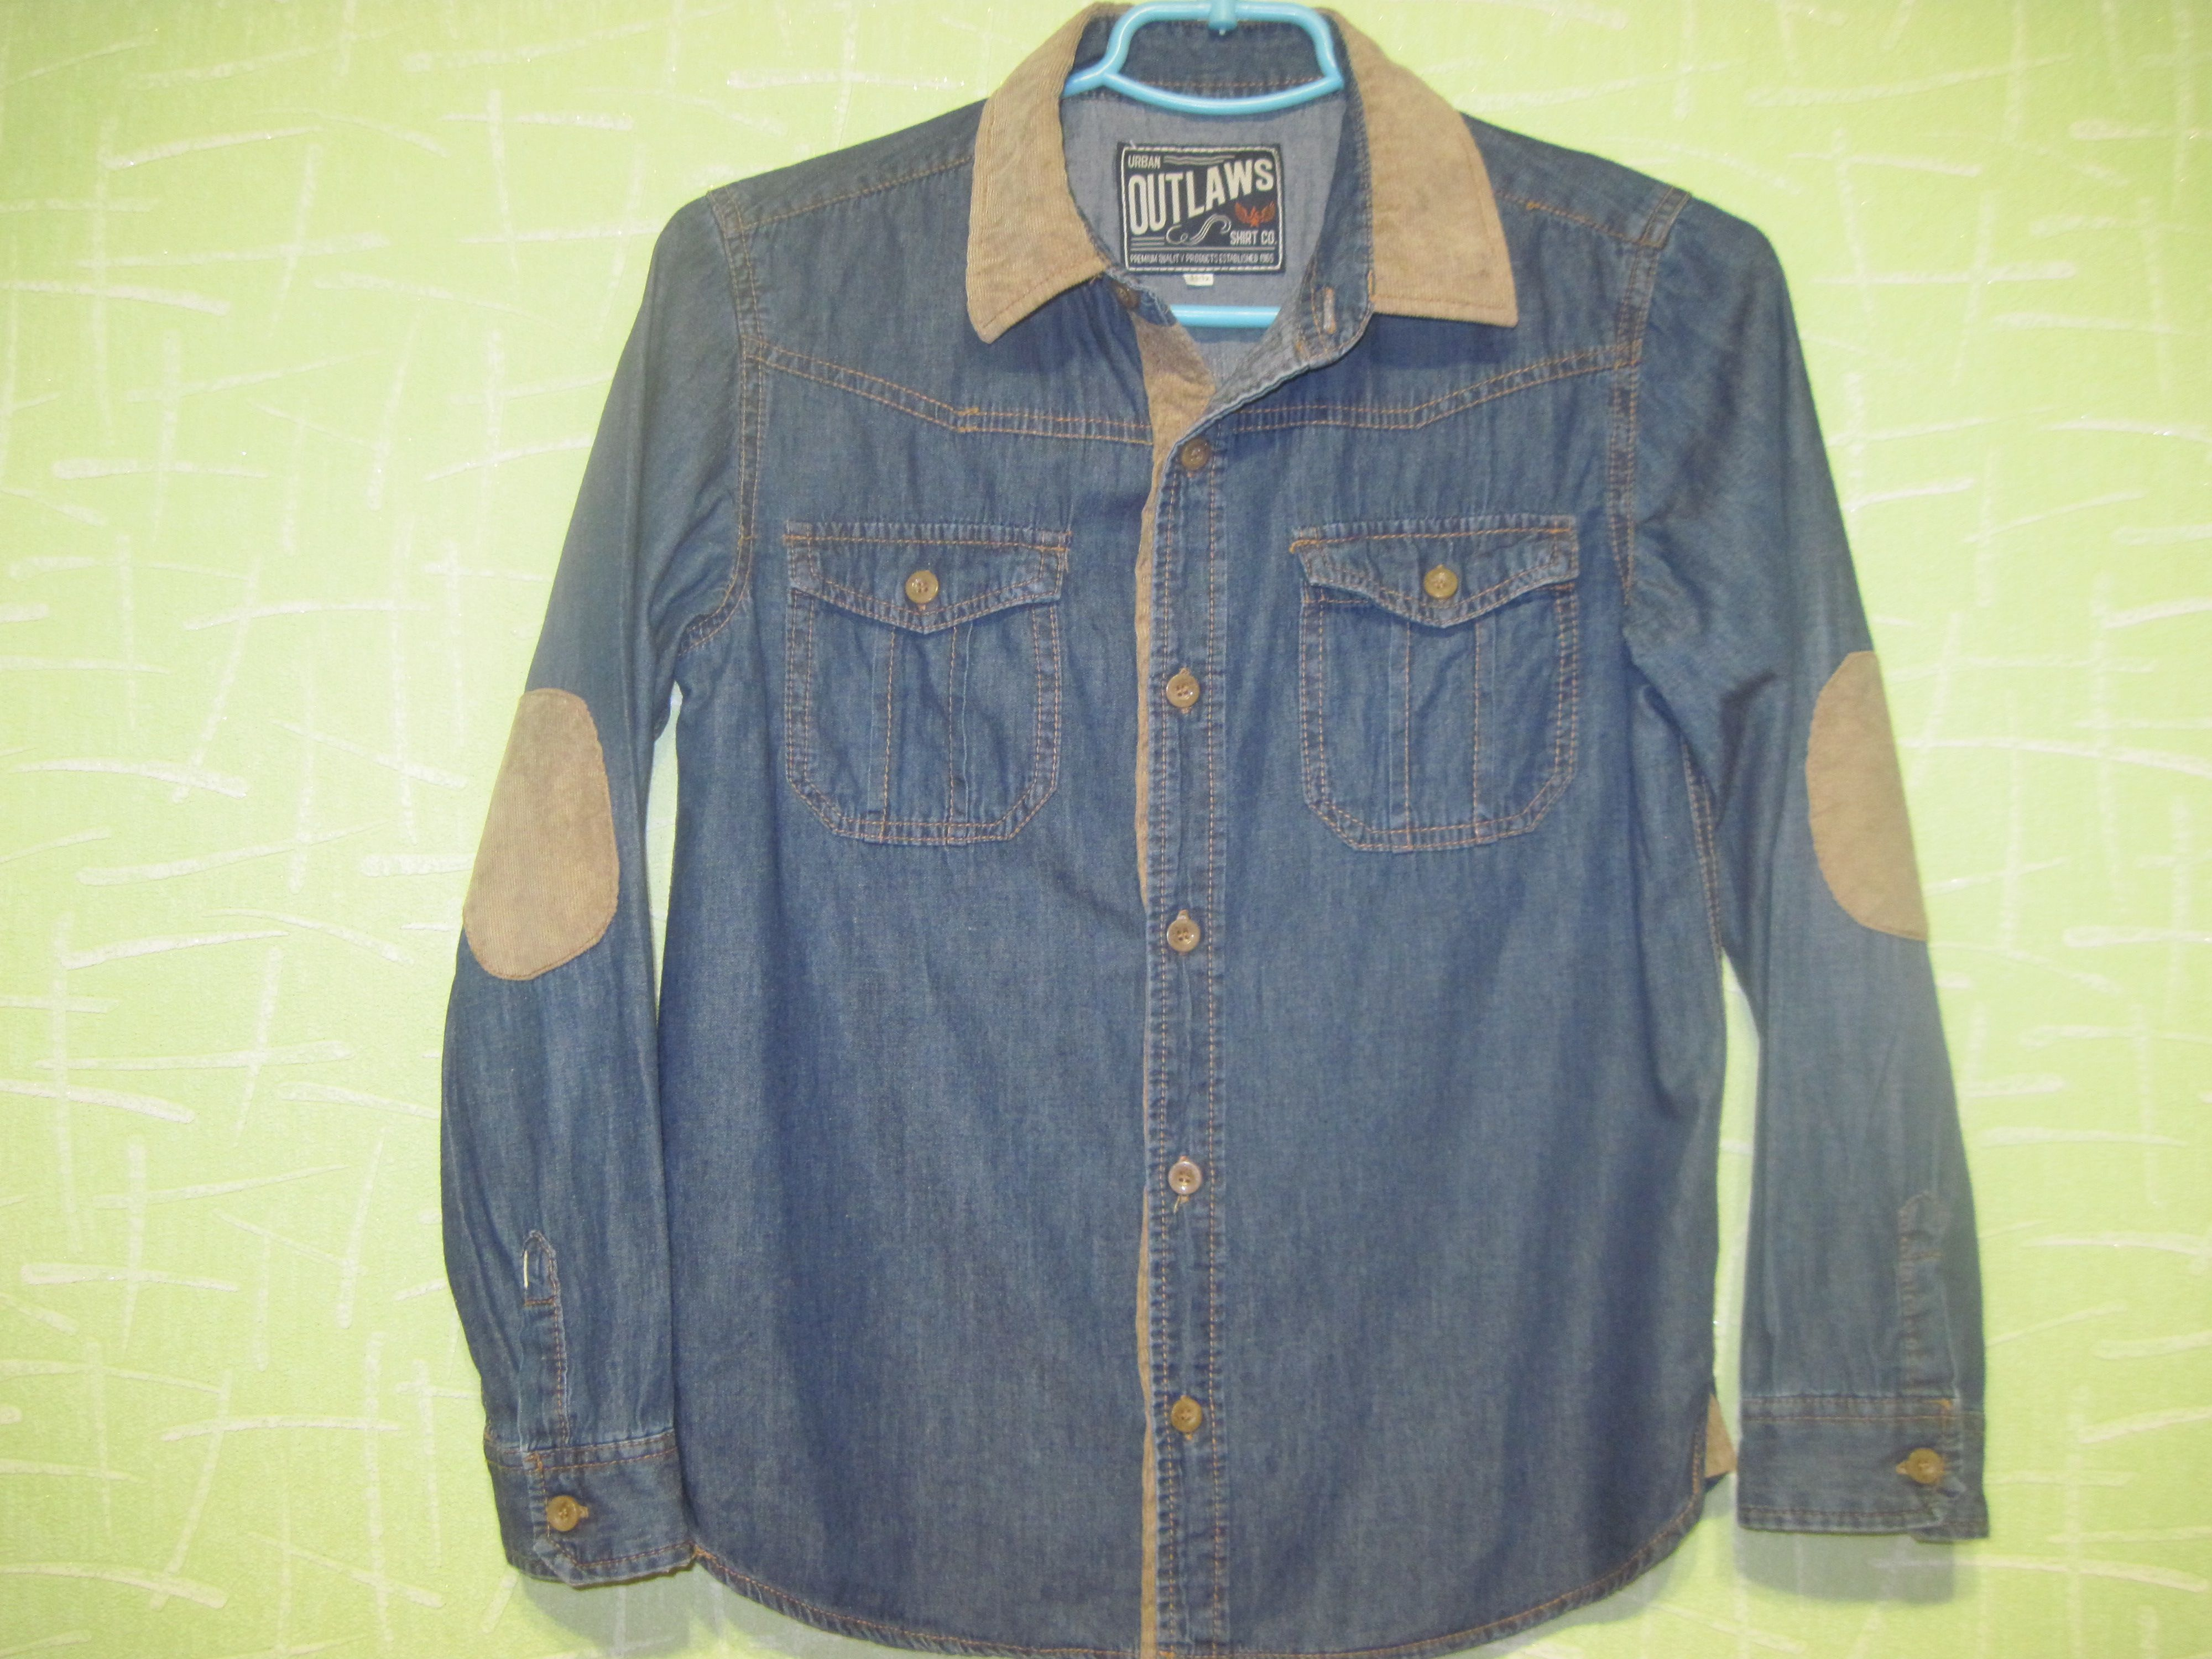clothes: (408, 10, 2054, 1638)
